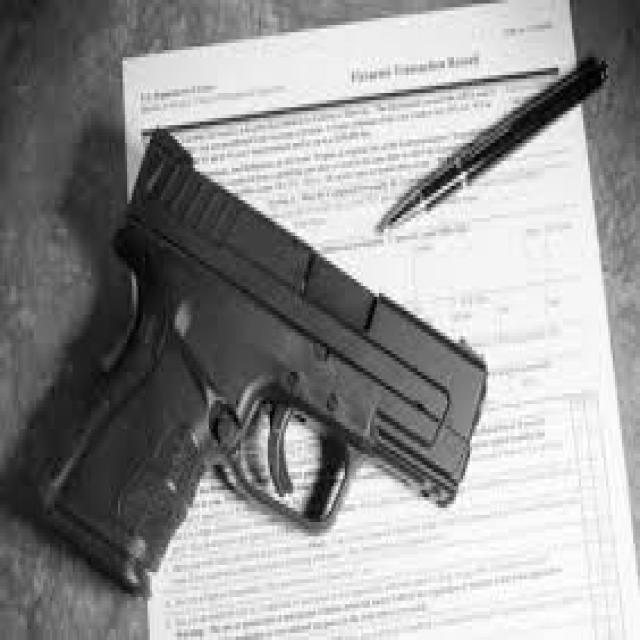handgun: (50, 122, 494, 585)
